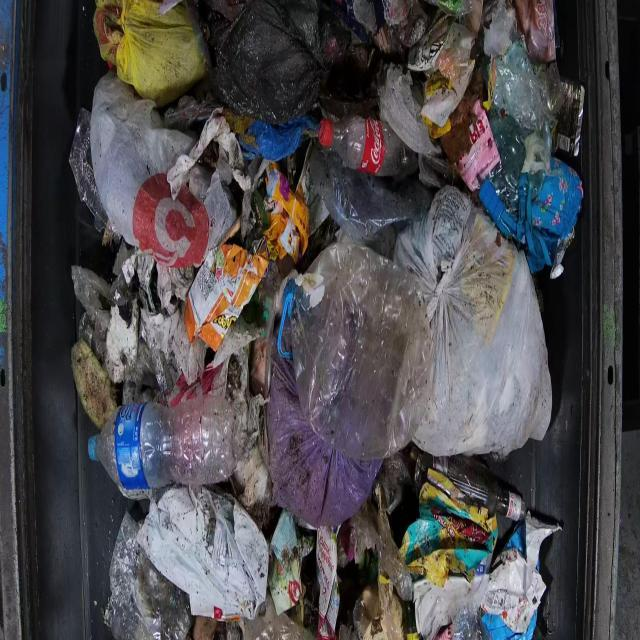cups: (86, 394, 240, 499)
other-trash: (67, 0, 584, 638)
